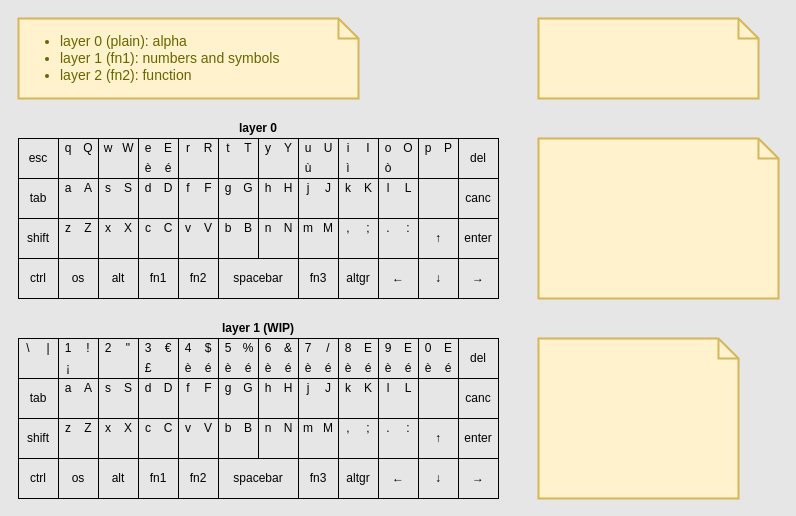
This 796x516 diagram has some shape labels left out. Each missing label, with the centre of its shape:
"parenthesis not in 8 and 9, but near to each others" belongs at point (638, 418).
"TODO create a list with all the characters and check if added or not" belongs at point (648, 58).
"try to make fn3 useless and substitute it with another key fix blanck at 2,11" belongs at point (658, 218).
